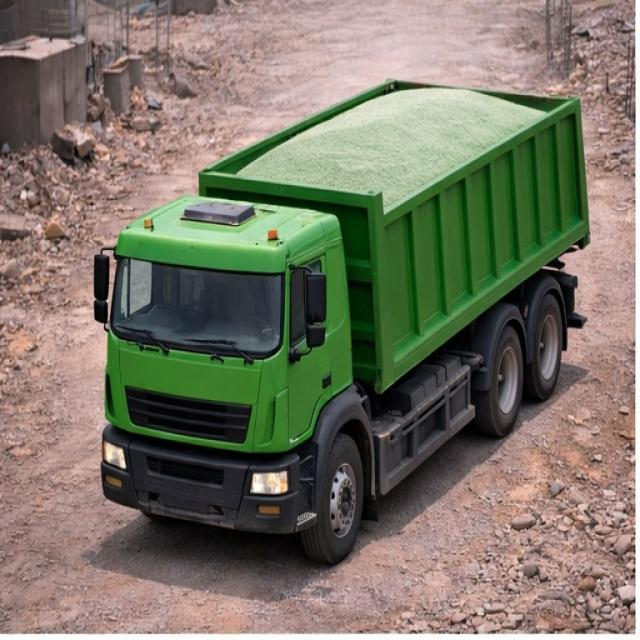trailer: (195, 75, 574, 199)
truck: (88, 52, 599, 537)
